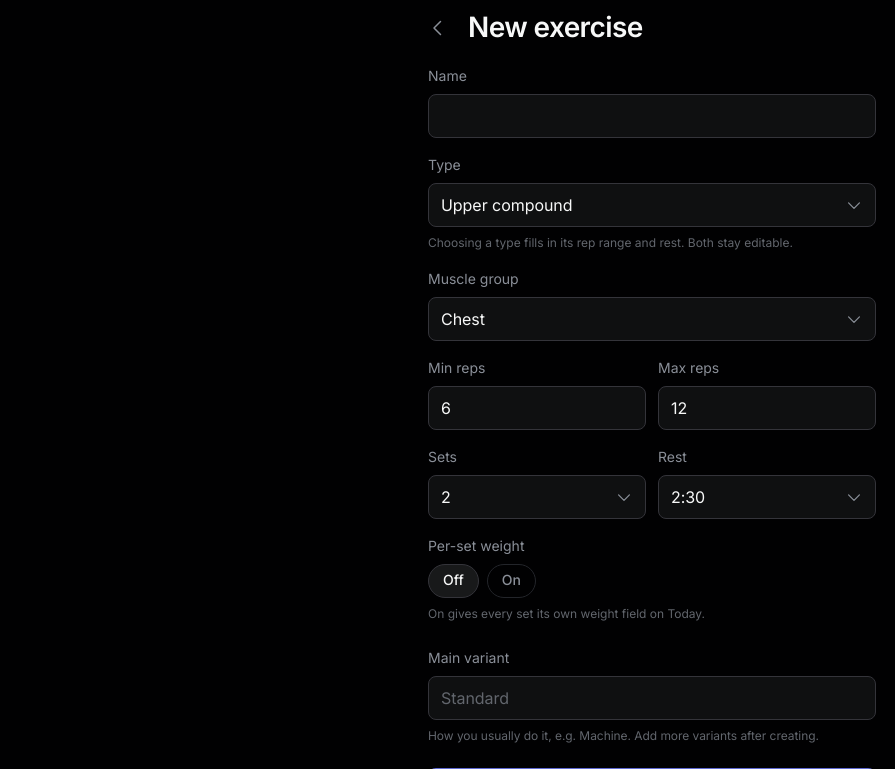
Test: New exercise › validates the name and rep range before creating
Replace the text in the field labelled "Max reps" with "4" at (767, 408), box [658,386,876,430]
(page scrolled)
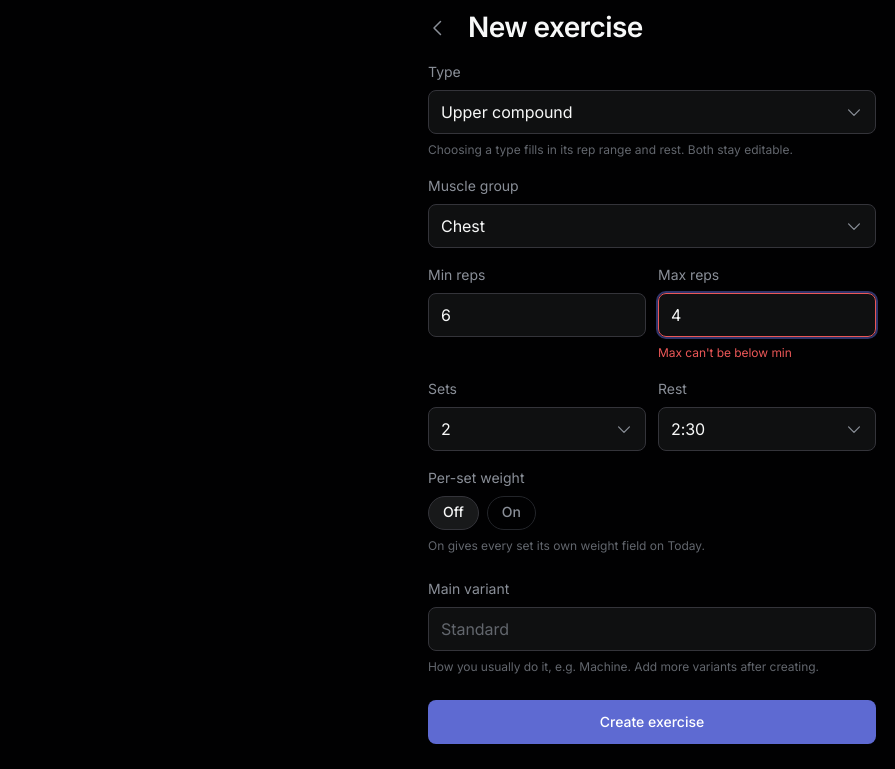
Now the text "Max can't be below min" is shown, box [658,345,792,360]
Click the button "Create exercise" at (652, 722), box [428,700,876,744]
(page scrolled)
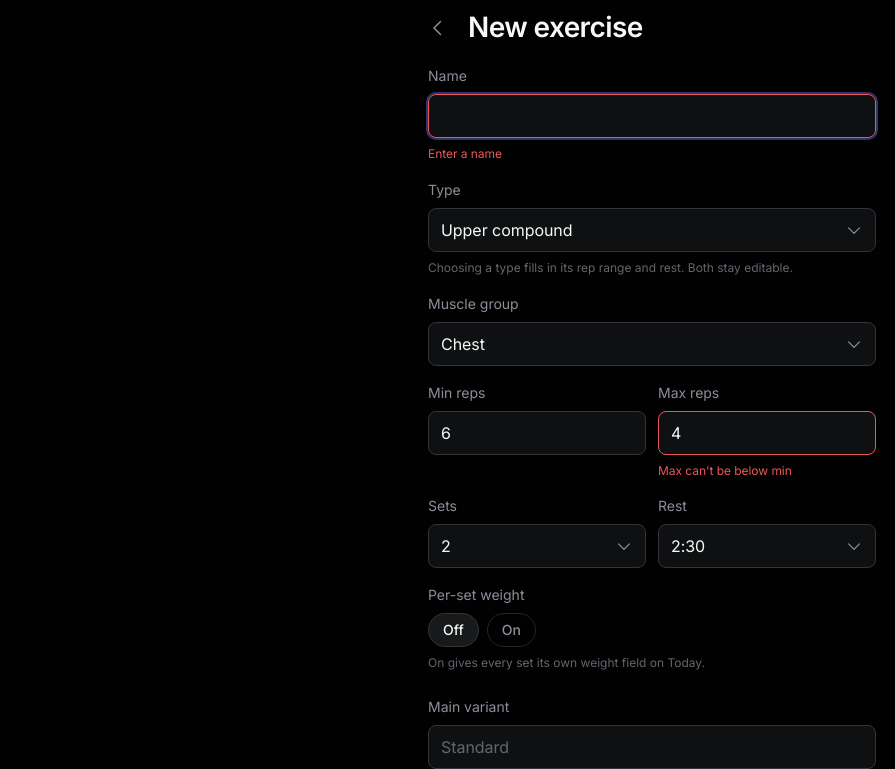
Now the text "Enter a name" is shown, box [428,146,502,161]
Type "chest PRESS" into the field labelled "Name" at (652, 116), box [428,94,876,138]
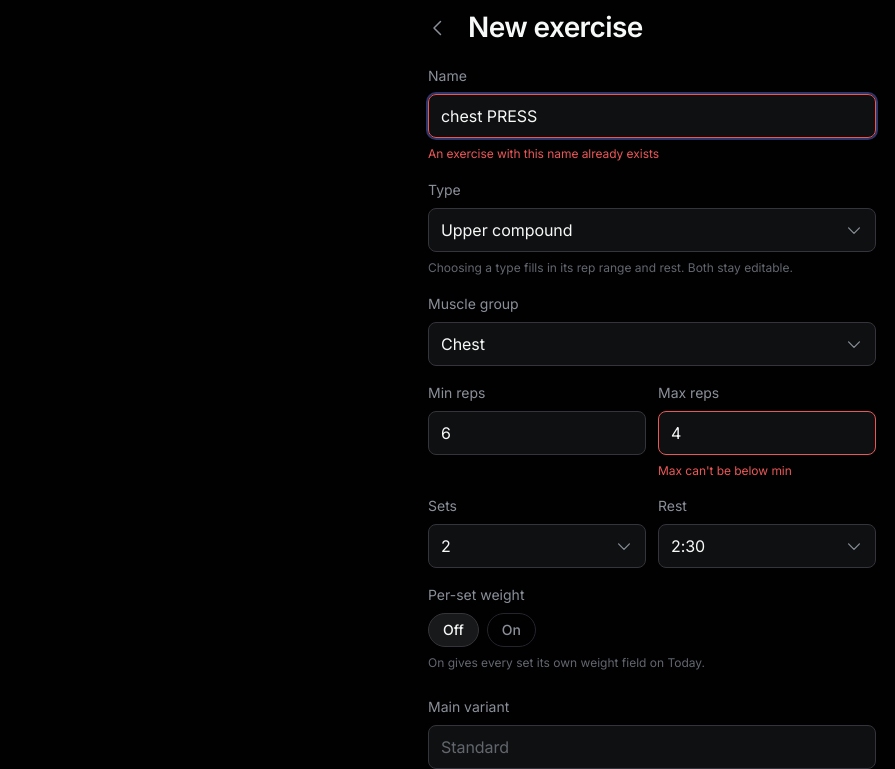
Now the text "An exercise with this name already exists" is shown, box [428,146,659,161]
